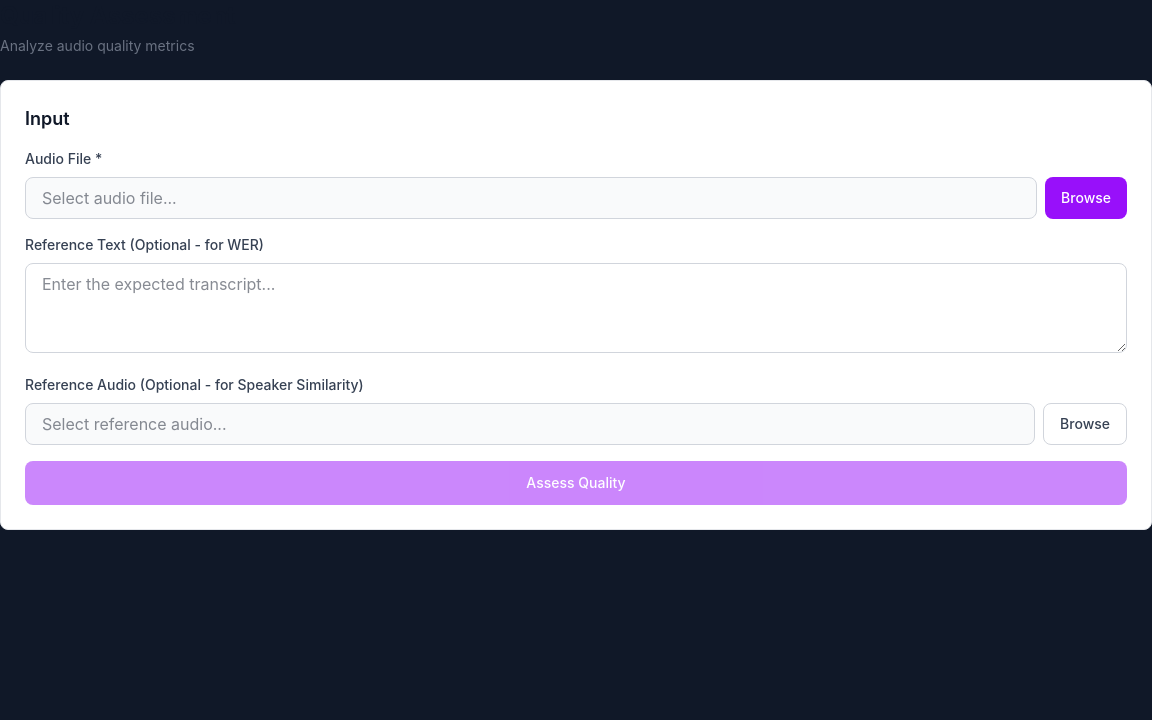
Scenario: QualityDashboard › Quality Assessment › should display metrics after assessment
The image size is (1152, 720).
Click the button with aria-label "browse audio file": (1086, 198) [1045, 177, 1127, 219]
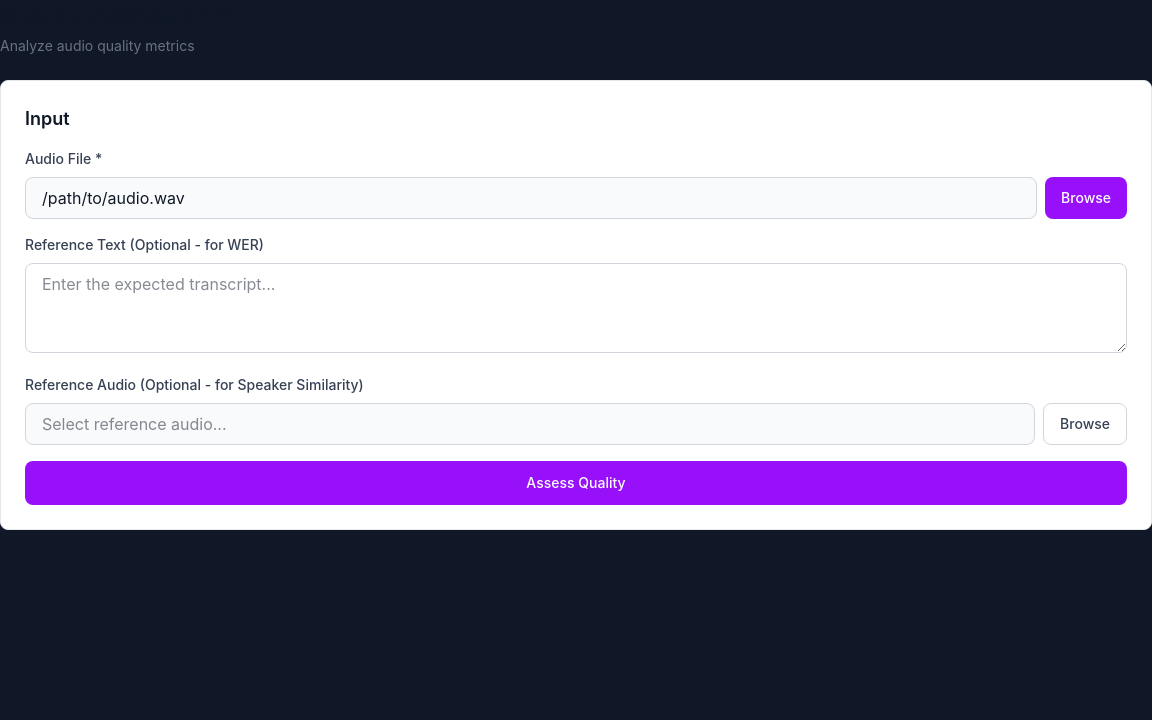
Now the button "Assess Quality" is enabled
Click the button "Assess Quality": (576, 483) [25, 461, 1127, 505]
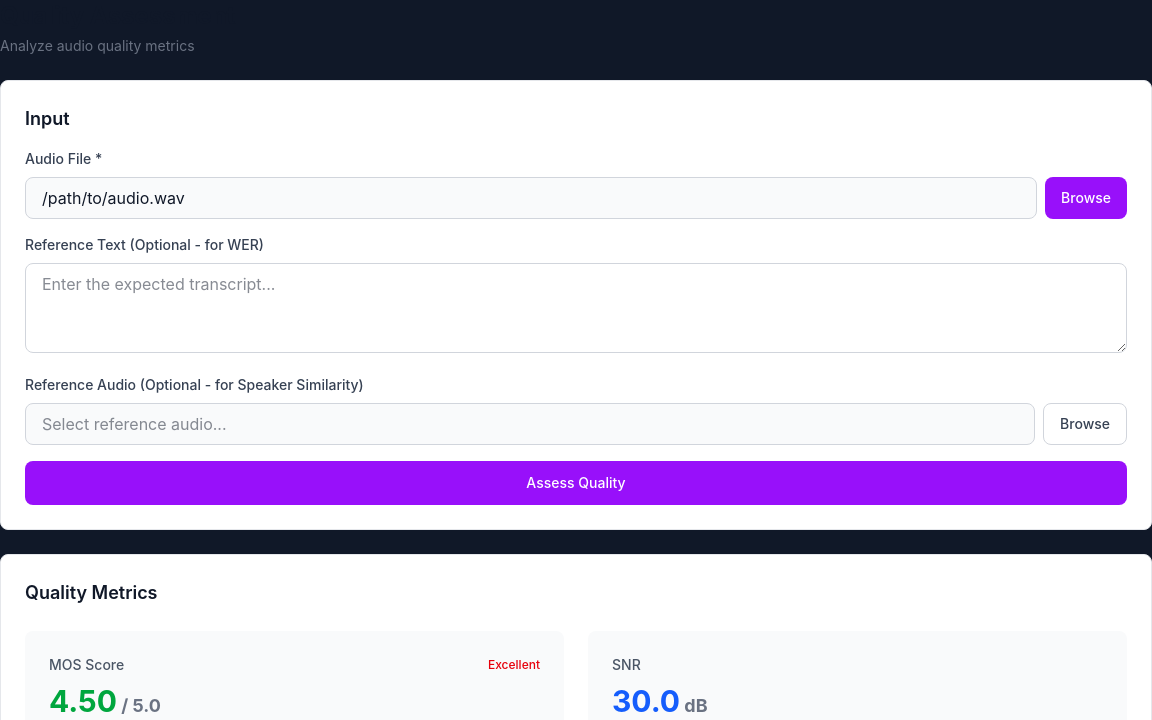
Now the text "4.50" is shown, box [49, 683, 117, 719]
Now the text "30.0" is shown, box [612, 683, 680, 719]
